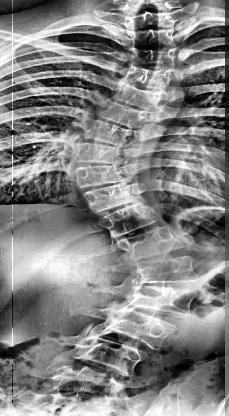Vertebrae: (94, 312, 177, 346), (63, 340, 144, 374), (124, 284, 198, 320), (118, 226, 188, 258), (131, 256, 203, 286), (100, 206, 167, 234), (82, 184, 140, 212), (70, 144, 124, 166), (85, 120, 131, 144), (72, 166, 122, 188), (104, 104, 148, 128), (116, 85, 160, 109), (125, 68, 169, 88), (132, 48, 178, 66), (130, 29, 174, 47)
